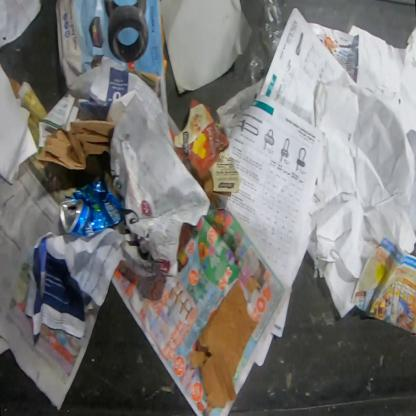cardboard: (169, 98, 242, 197)
metal: (60, 177, 122, 238)
soft_plastic: (249, 1, 287, 82)
